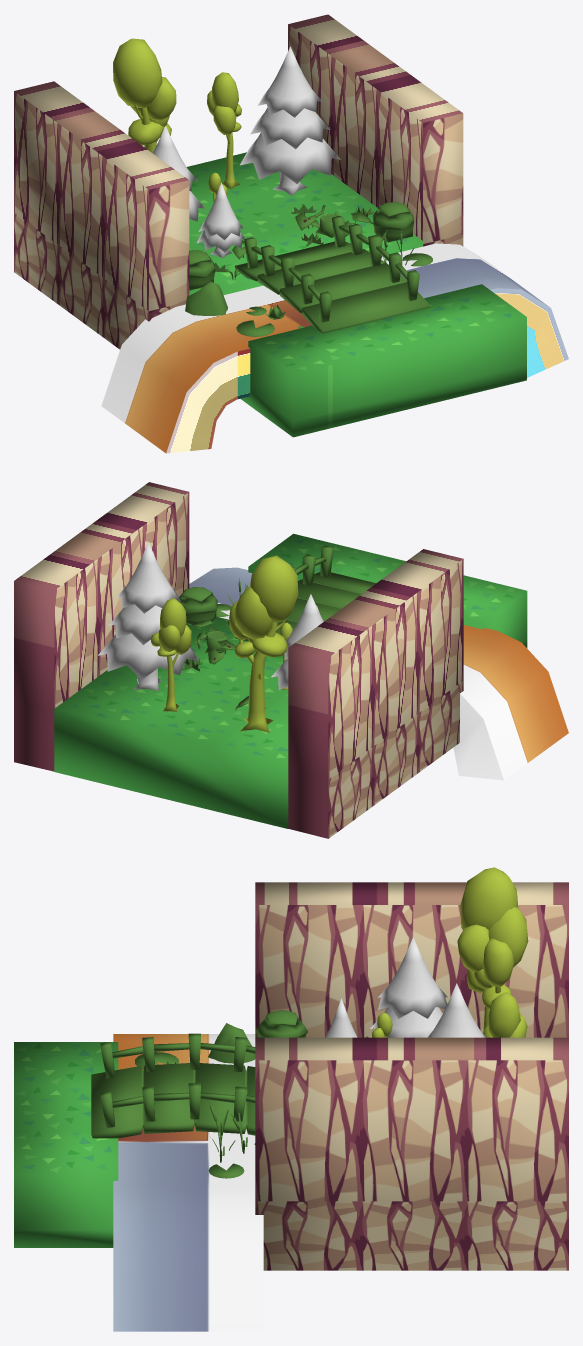
Rendered from menuscene.fbx.
3 views of the same model, one above another, from view 1: azimuth 30°, elevation 25°; view 2: azimuth 150°, elevation 25°; view 3: azimuth 270°, elevation 25° (orthographic). The views are drawn at different scales.
Parts seen in each view (by area): view 1: Cube.005; view 2: Cube.005; view 3: Cube.005.
Part boxes in pixels (x1,y1,x2,y2): Cube.005: (14,14,568,453); Cube.005: (14,482,568,838); Cube.005: (14,867,568,1331).
Size of the model in its own units: 345 by 226 by 354.
